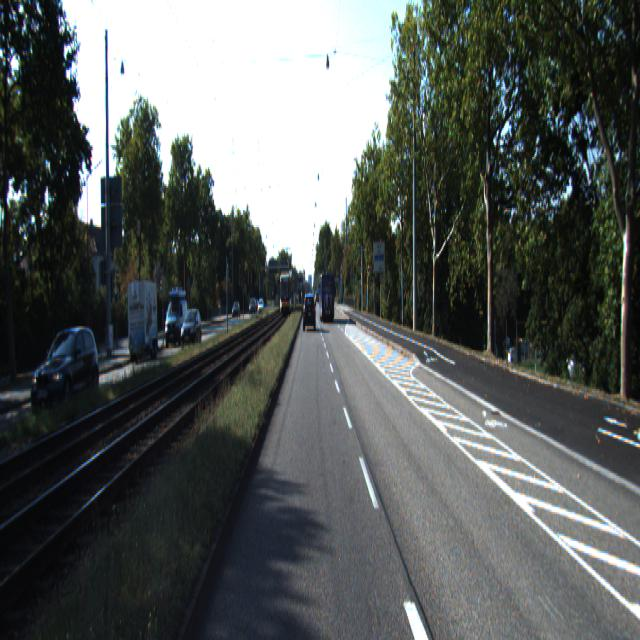Car: (30, 321, 103, 423), (126, 276, 159, 364), (163, 297, 190, 350), (180, 310, 203, 352), (319, 272, 335, 322), (304, 294, 316, 331)
